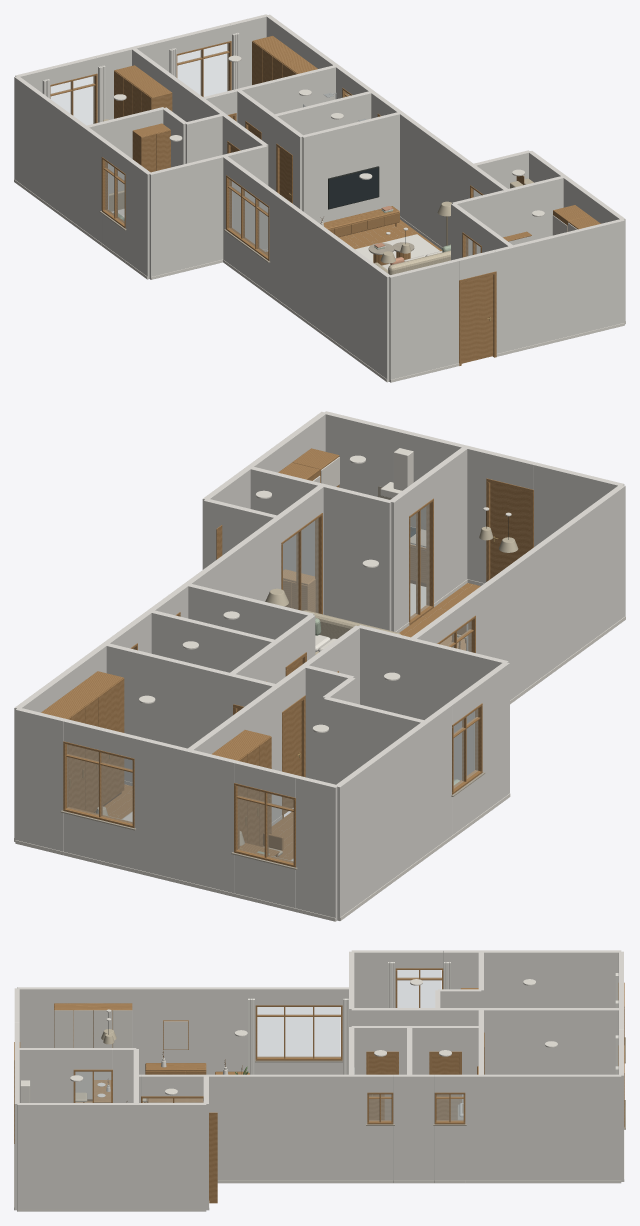
The model's file is huiyayuan-wood.glb.
The picture shows the model from 3 angles, top to bottom: view 1: azimuth 30°, elevation 25°; view 2: azimuth 150°, elevation 25°; view 3: azimuth 270°, elevation 25°; orthographic projection. The views are drawn at different scales.
Visible parts, largest first — view 1: Wall 04 / pier.001, Wall 03 / pier.001, Wall 01 / pier, Wall 02 / pier, Wall 13 / pier, Wall 04 / pier, Wall 07 / pier.002, Wall 15 / pier, Wall 10 / pier.001, entry_door / oak door leaf, Wall 01 / pier.001, Wall 12 / pier (+36 smaller); view 2: Wall 03 / pier.001, Wall 01 / pier, Wall 00 / pier.001, Wall 10 / pier.001, Wall 16 / pier, Wall 04 / pier.001, Wall 00 / pier.002, Wall 00 / pier, Wall 02 / pier, Wall 09 / pier, Wall 07 / pier.002, Wall 17 / pier.001 (+47 smaller); view 3: Wall 05 / pier, Wall 07 / pier, Wall 07 / pier.002, Wall 03 / pier.001, Wall 01 / pier, Wall 08 / pier, Wall 07 / pier.001, window_living_west / clear glazing, Wall 17 / pier.001, Wall 01 / pier.001, Wall 07 / sill, Wall 03 / lintel (+38 smaller).
Part boxes in pixels (x1=…): Wall 04 / pier.001: x1=494, y1=219, x2=624, y2=353; Wall 03 / pier.001: x1=269, y1=190, x2=390, y2=382; Wall 01 / pier: x1=14, y1=76, x2=106, y2=243; Wall 02 / pier: x1=149, y1=155, x2=224, y2=279; Wall 13 / pier: x1=302, y1=112, x2=400, y2=223; Wall 04 / pier: x1=389, y1=259, x2=458, y2=382; Wall 07 / pier.002: x1=391, y1=106, x2=472, y2=247; Wall 15 / pier: x1=507, y1=176, x2=563, y2=245; Wall 10 / pier.001: x1=234, y1=65, x2=337, y2=121; entry_door / oak door leaf: x1=461, y1=275, x2=493, y2=363; Wall 01 / pier.001: x1=125, y1=157, x2=150, y2=279; Wall 12 / pier: x1=273, y1=91, x2=371, y2=135; Wall 03 / pier.001: x1=470, y1=484, x2=625, y2=700; Wall 01 / pier: x1=335, y1=704, x2=451, y2=920; Wall 00 / pier.001: x1=134, y1=736, x2=236, y2=893; Wall 10 / pier.001: x1=104, y1=643, x2=236, y2=782; Wall 16 / pier: x1=321, y1=484, x2=392, y2=630; Wall 04 / pier.001: x1=323, y1=411, x2=489, y2=583; Wall 00 / pier.002: x1=15, y1=707, x2=66, y2=851; Wall 00 / pier: x1=296, y1=776, x2=337, y2=921; Wall 02 / pier: x1=410, y1=638, x2=508, y2=780; Wall 09 / pier: x1=323, y1=696, x2=424, y2=784; Wall 07 / pier.002: x1=174, y1=517, x2=281, y2=618; Wall 17 / pier.001: x1=428, y1=447, x2=467, y2=603; Wall 05 / pier: x1=17, y1=1103, x2=206, y2=1211; Wall 07 / pier: x1=465, y1=1074, x2=621, y2=1183; Wall 07 / pier.002: x1=206, y1=1074, x2=367, y2=1183; Wall 03 / pier.001: x1=17, y1=987, x2=255, y2=1074; Wall 01 / pier: x1=443, y1=950, x2=621, y2=1007; Wall 08 / pier: x1=478, y1=1008, x2=618, y2=1074; Wall 07 / pier.001: x1=393, y1=1074, x2=434, y2=1183; window_living_west / clear glazing: x1=257, y1=1007, x2=340, y2=1057; Wall 17 / pier.001: x1=19, y1=1048, x2=73, y2=1102; Wall 01 / pier.001: x1=351, y1=950, x2=395, y2=1007; Wall 07 / sill: x1=434, y1=1126, x2=465, y2=1183; Wall 03 / lintel: x1=255, y1=987, x2=342, y2=1005.
Bounding box in the file's own units: 8.46 × 2.71 × 14.07.
Materials: 21 (3 with a texture image).
